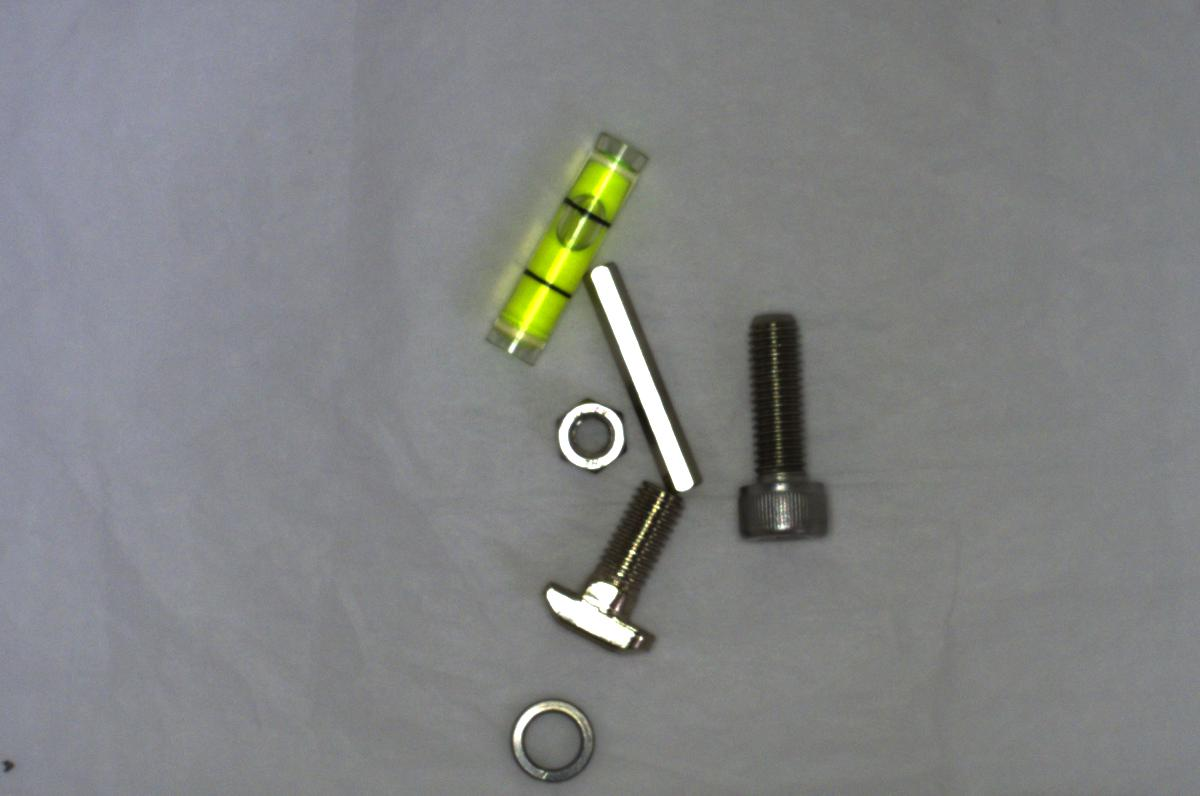Double hexagonal column: (586, 255, 694, 495)
Hexagon nut: (544, 392, 637, 483)
Horizontal bubble: (472, 126, 648, 363)
Spring washer: (502, 685, 600, 786)
T-shaped screw: (540, 481, 681, 665)
